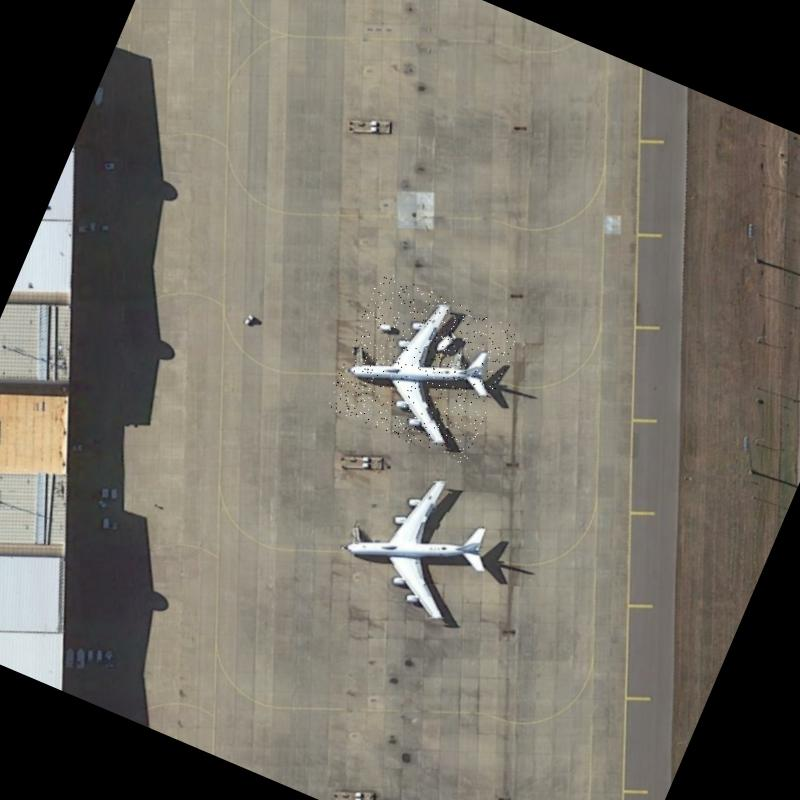A11: (320, 443, 520, 640), (323, 270, 522, 466)
